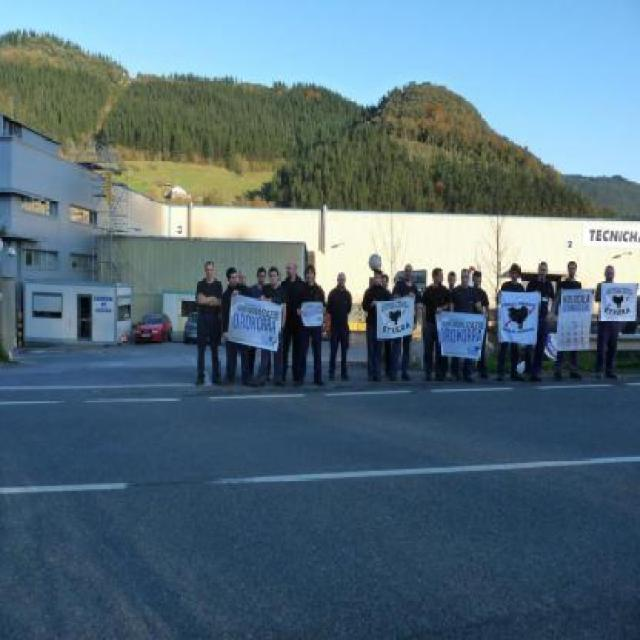Person: (193, 263, 350, 391), (362, 263, 491, 375), (592, 255, 630, 379), (190, 256, 221, 387), (528, 258, 555, 382), (558, 262, 587, 376), (497, 268, 521, 382)
